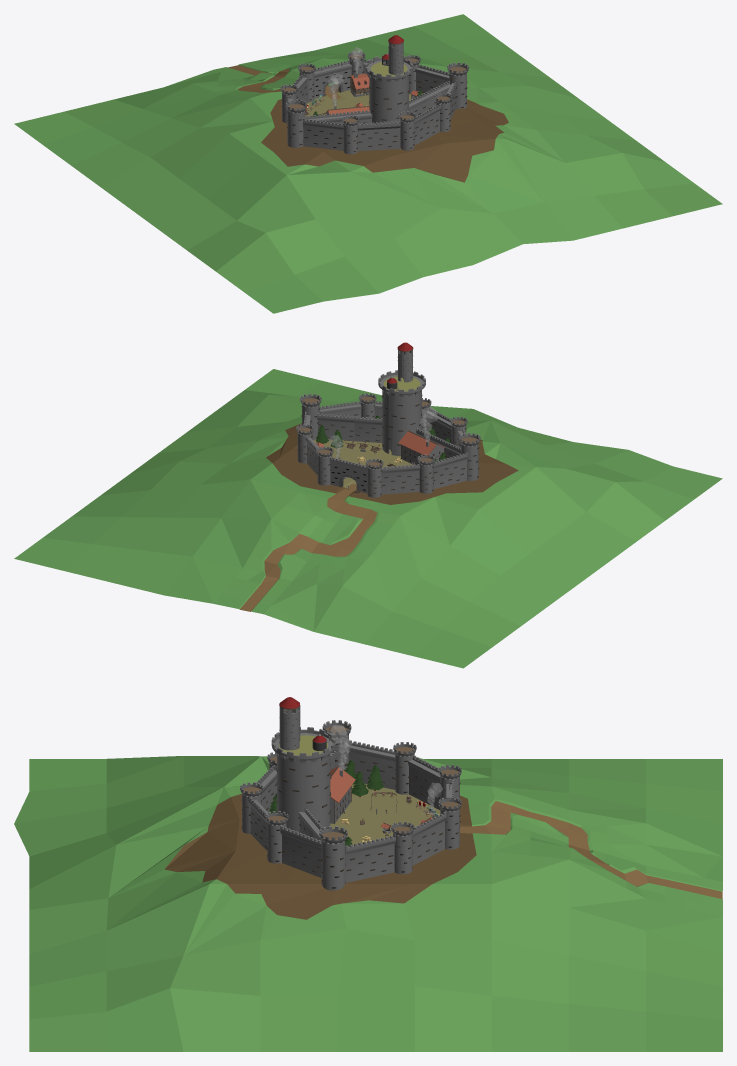
3 renders of one model, top to bottom at view 1: azimuth 30°, elevation 25°; view 2: azimuth 150°, elevation 25°; view 3: azimuth 270°, elevation 25°, orthographic. The views are drawn at different scales.
Visible parts, largest first — view 1: Floor, Wall, Tower2.001, Door, Keep; view 2: Floor, Wall, Tower2.001, Door, Hall, Keep; view 3: Floor, Wall, Tower2.001, Keep, Hall.
Boxes of the visible parts, box(x1,y1,x2,y2) form: Floor: box(14, 14, 722, 313); Wall: box(280, 51, 468, 154); Tower2.001: box(365, 53, 412, 123); Door: box(314, 60, 351, 98); Keep: box(388, 35, 403, 74); Floor: box(14, 369, 722, 668); Wall: box(296, 393, 480, 497); Tower2.001: box(378, 370, 425, 455); Door: box(329, 457, 367, 493); Hall: box(398, 430, 444, 465); Keep: box(397, 342, 413, 382); Floor: box(14, 756, 722, 1051); Wall: box(240, 720, 461, 890); Tower2.001: box(271, 727, 335, 832); Keep: box(279, 697, 300, 750); Hall: box(330, 766, 355, 823).
Bounding box in the file's own units: 252 × 81.83 × 258.
Materials: 41 (41 with a texture image).
